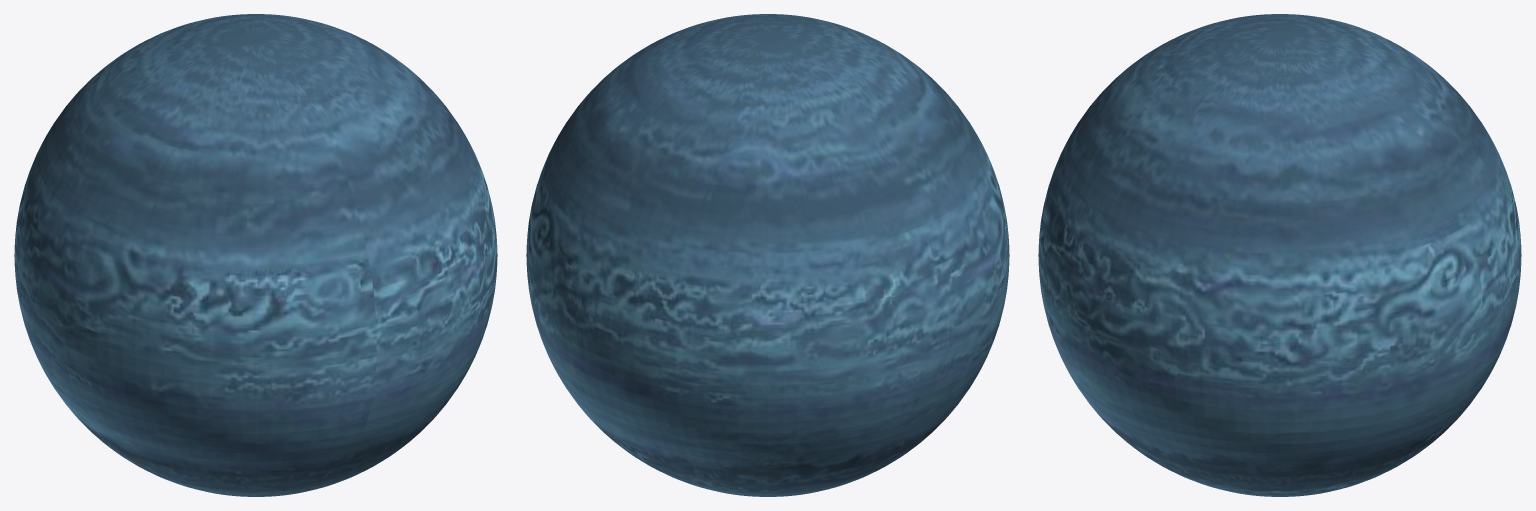
The model's file is neptune.obj.
3 renders of one model, left to right at view 1: azimuth 30°, elevation 25°; view 2: azimuth 150°, elevation 25°; view 3: azimuth 270°, elevation 25°, orthographic.
Visible parts, largest first — view 1: Sphere; view 2: Sphere; view 3: Sphere.
Boxes of the visible parts, <box> form: Sphere: <box>14,14,497,496</box>; Sphere: <box>526,14,1009,496</box>; Sphere: <box>1038,14,1521,496</box>.
Bounding box in the file's own units: 2 × 2 × 2.
1 material, 1 textured.
